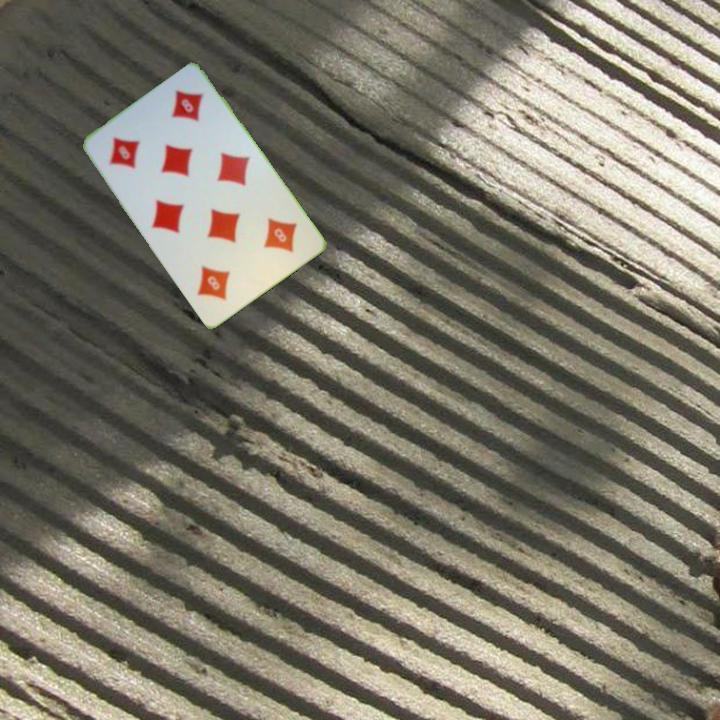d_8.png: (90, 108, 176, 192), (229, 198, 315, 281)
